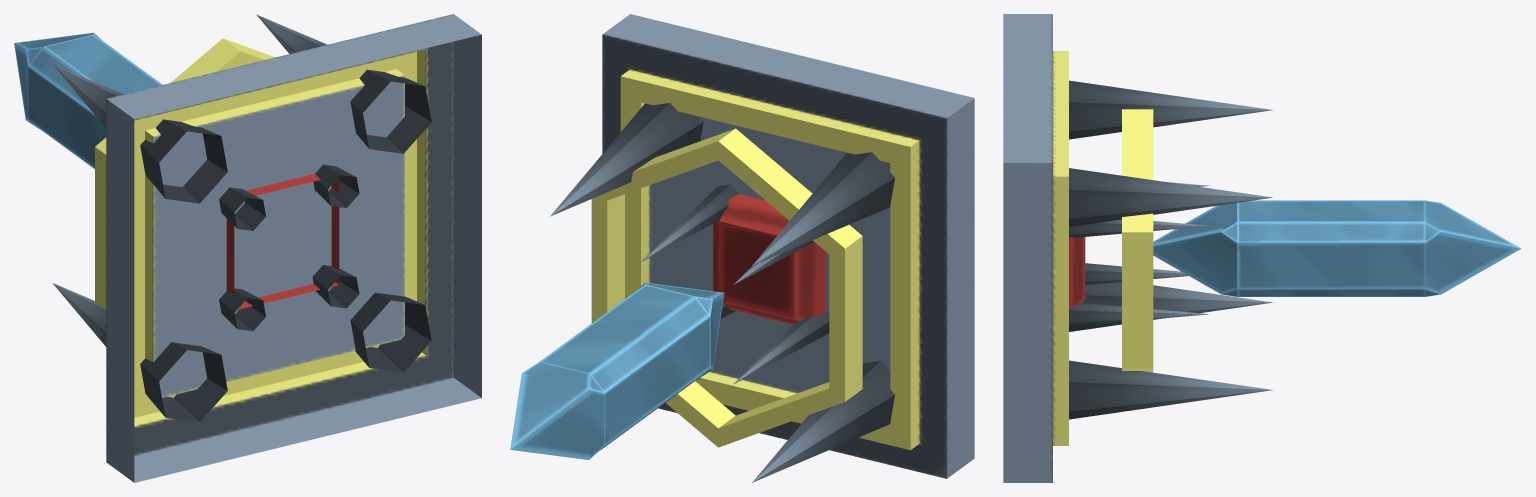
Rendered from Tour boost3.fbx.
3 views of the same model, side by side, from view 1: azimuth 30°, elevation 25°; view 2: azimuth 150°, elevation 25°; view 3: azimuth 270°, elevation 25° (orthographic). The views are drawn at different scales.
Parts seen in each view (by area): view 1: Tour 3; view 2: Tour 3; view 3: Tour 3.
Part boxes in pixels (x1,y1,x2,y2): Tour 3: (14, 14, 481, 482); Tour 3: (510, 14, 974, 482); Tour 3: (1003, 14, 1521, 482).
Bounding box in the file's own units: 5.2 × 5.2 × 7.63.
